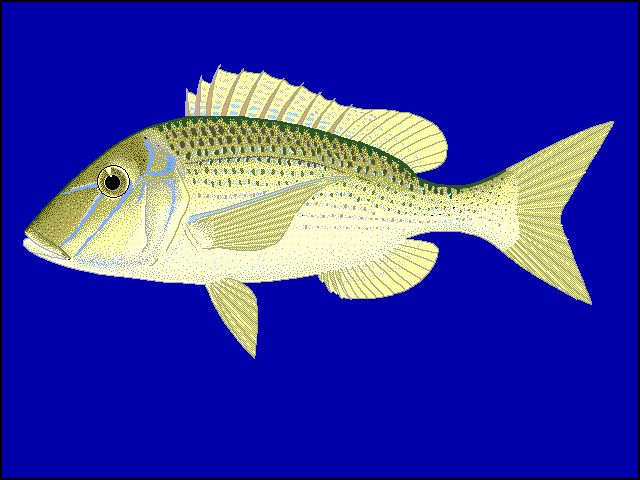fish: (22, 64, 615, 359)
